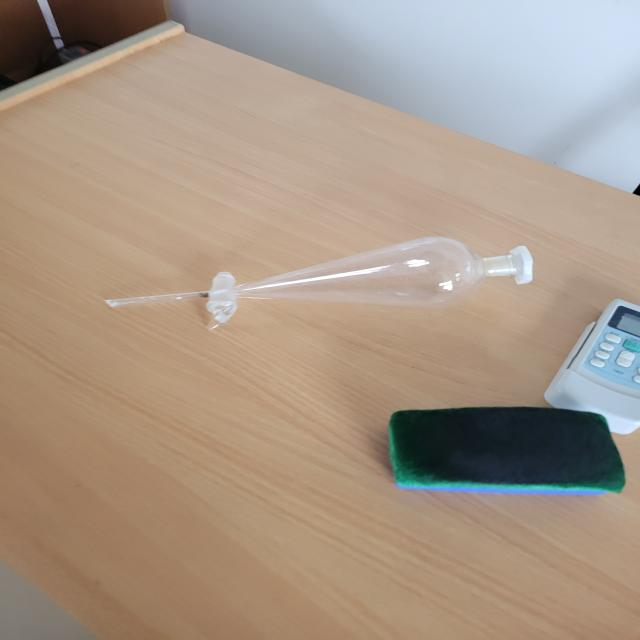Separating_Funnel: (89, 199, 560, 351)
